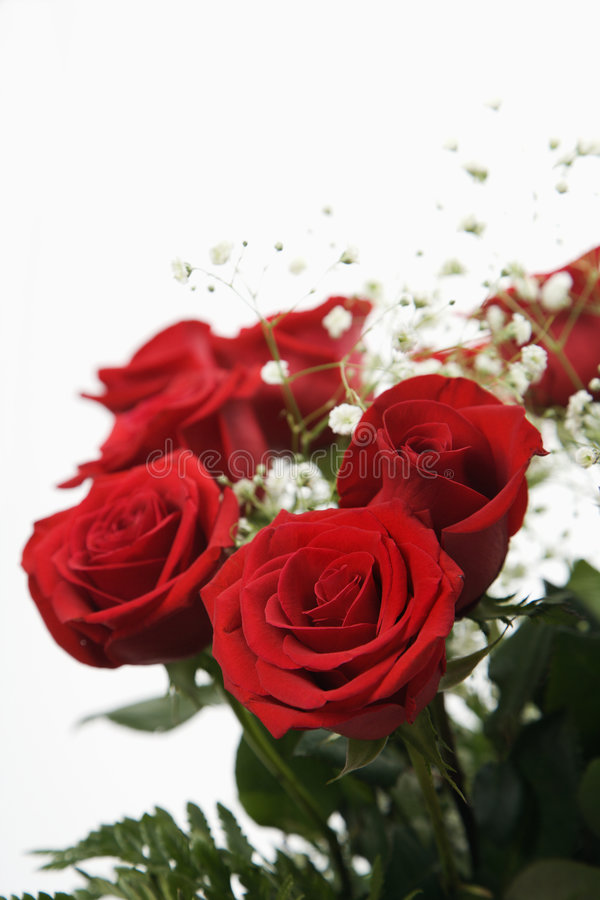RedRose: (204, 510, 470, 739), (7, 442, 238, 671), (330, 376, 544, 581), (77, 306, 276, 494), (470, 241, 600, 435), (240, 286, 375, 442)
